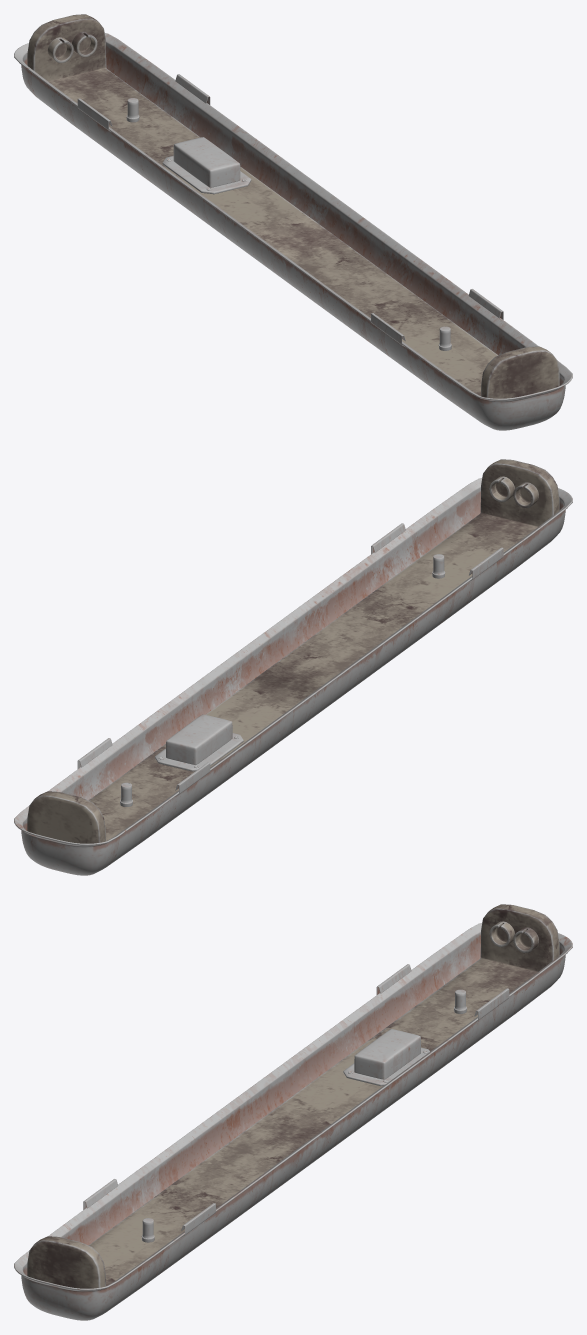
The model's file is SM_Fluoresent_Light_Tube_01c.fbx.
The picture shows the model from 3 angles, top to bottom: view 1: azimuth 30°, elevation 25°; view 2: azimuth 150°, elevation 25°; view 3: azimuth 330°, elevation 25°; orthographic projection.
Visible parts, largest first — view 1: SM_Fluoresent_Light_Tube_01c_LOD0; view 2: SM_Fluoresent_Light_Tube_01c_LOD0; view 3: SM_Fluoresent_Light_Tube_01c_LOD0.
Boxes of the visible parts, box(x1,y1,x2,y2) form: SM_Fluoresent_Light_Tube_01c_LOD0: box(14, 14, 572, 430); SM_Fluoresent_Light_Tube_01c_LOD0: box(14, 459, 572, 875); SM_Fluoresent_Light_Tube_01c_LOD0: box(14, 904, 572, 1320).
Size of the model in its own units: 12.21 by 101 by 8.74.
